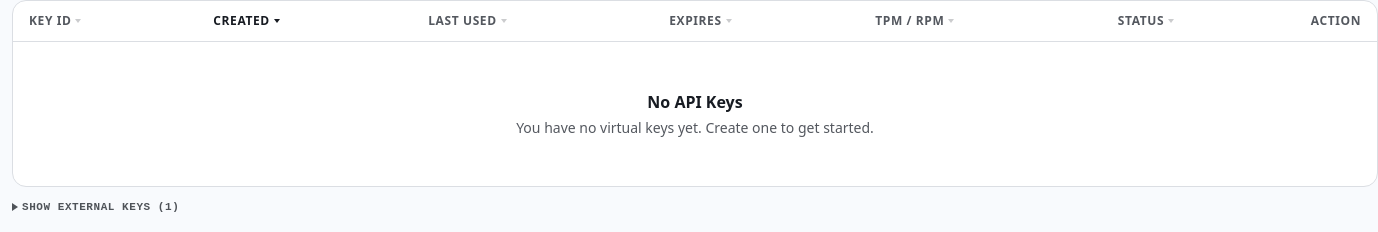
KeysTable — keys minted elsewhere › marks a foreign key EXTERNAL so its missing actions are explained
The width and height of the screenshot is (1378, 232).
Click the button "Show external keys (1)" at coordinates (96, 207), box x1=12 y1=199 x2=179 y2=216
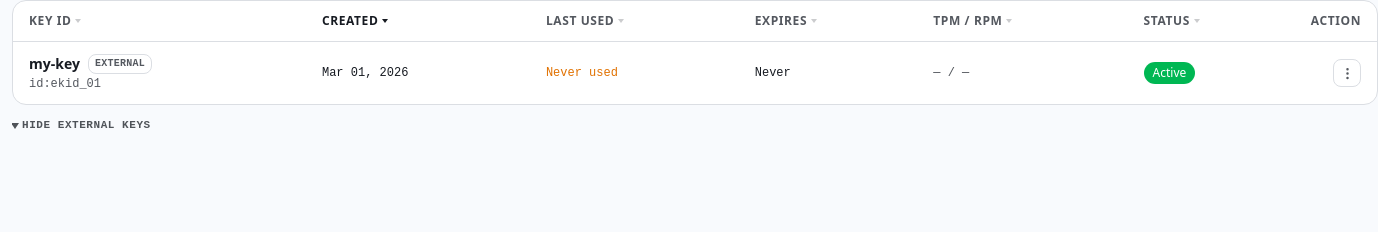
Expected: the text "EXTERNAL" is shown, x1=88 y1=54 x2=152 y2=74
